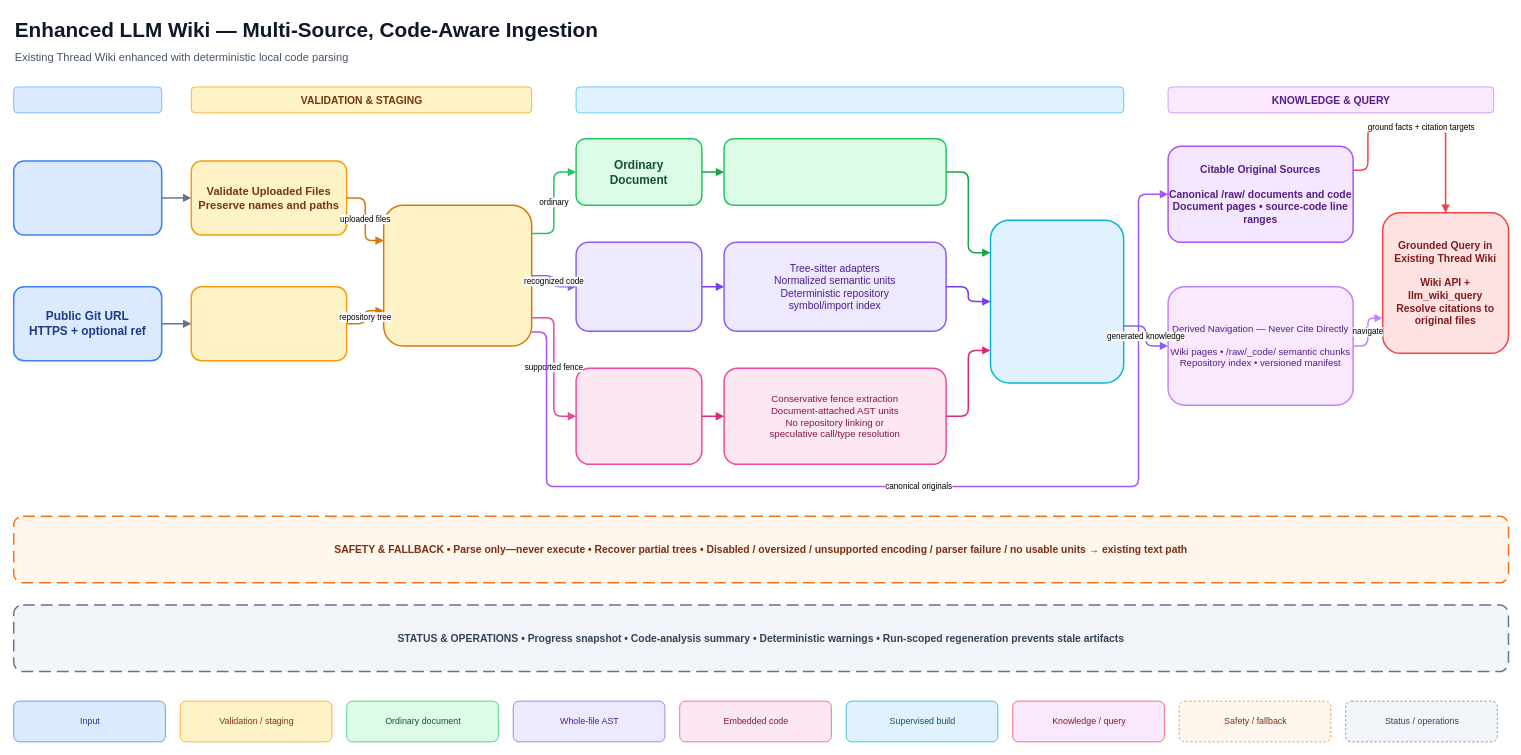
Image size: 1521x755. Some labels were removed from this diagram. Each missing label, with the centre of its shape:
CODE-AWARE PROCESSING: the point at 849,99
Embedded Code Fence: the point at 638,416
Existing extraction + text chunking: the point at 834,172
File Upload Documents + source files: the point at 87,197
SOURCES: the point at 87,99
Stage Canonical Originals Preserve repository paths Write canonical /raw/: the point at 457,275
Unified Supervised Wiki Build Analyze ↓ Apply ↓ Review: the point at 1056,301
Validate Git Import Allowlisted hosts • optional ref Bounded shallow clone: the point at 268,323
Whole Code File: the point at 638,286
